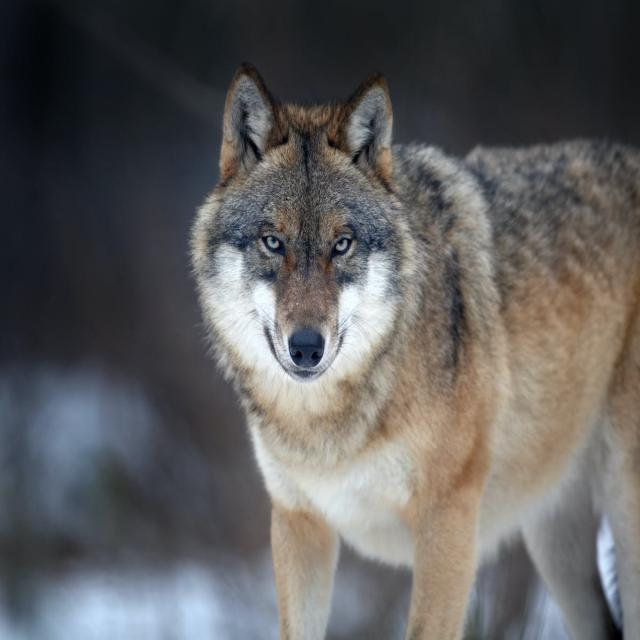Wolf: (187, 61, 639, 639)
